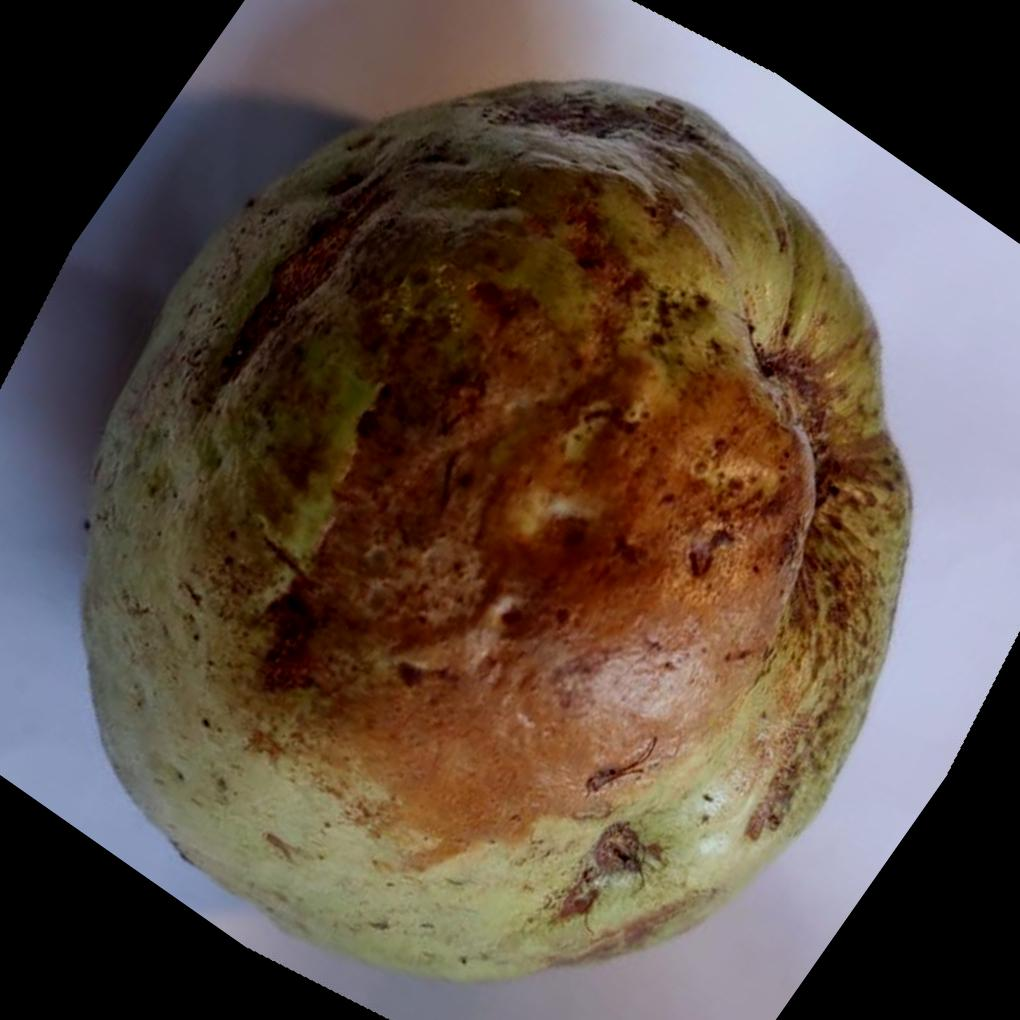FreshOrange: (78, 79, 912, 989)
